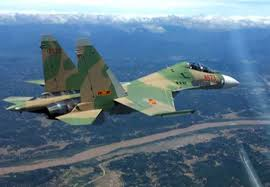maybay_muctieu: (12, 40, 234, 124)
